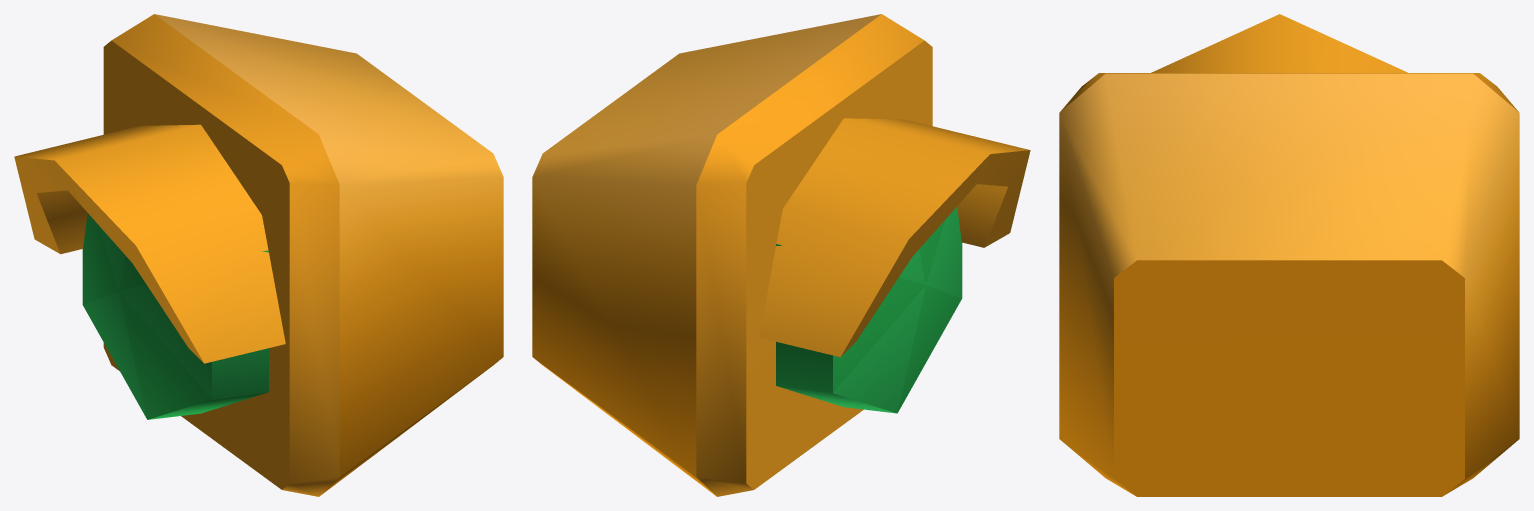
Rendered from Lights_1_2.fbx.
3 views of the same model, side by side, from view 1: azimuth 30°, elevation 25°; view 2: azimuth 150°, elevation 25°; view 3: azimuth 270°, elevation 25° (orthographic). The views are drawn at different scales.
Visible parts, largest first — view 1: Lights_1_2; view 2: Lights_1_2; view 3: Lights_1_2.
Boxes of the visible parts, x1,y1,x2,y2 form: Lights_1_2: [14, 14, 503, 496]; Lights_1_2: [532, 14, 1030, 496]; Lights_1_2: [1059, 14, 1519, 496].
Size of the model in its own units: 34.66 by 32.02 by 33.02.
